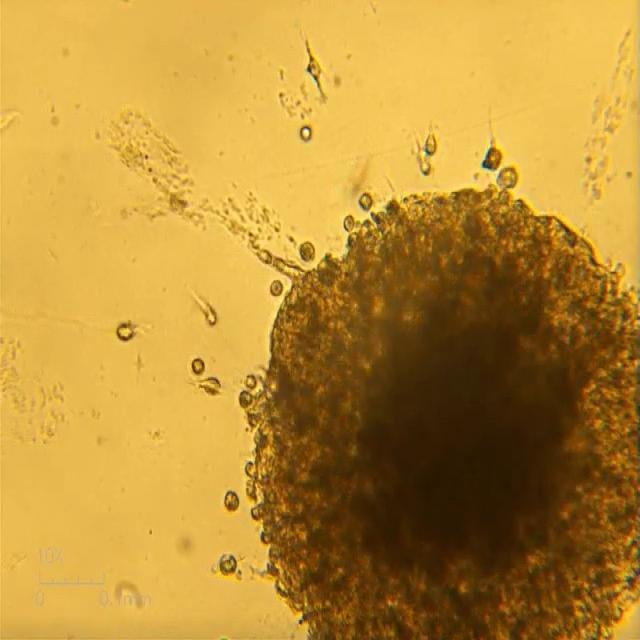cell: (190, 287, 220, 324), (305, 43, 322, 97), (496, 167, 518, 189), (222, 491, 242, 514), (116, 323, 138, 343), (482, 147, 502, 169), (220, 553, 238, 577), (200, 377, 223, 395), (424, 127, 437, 153), (298, 124, 314, 143), (190, 357, 206, 375), (342, 213, 357, 232), (357, 192, 372, 209), (419, 155, 433, 173), (300, 241, 315, 257), (245, 375, 258, 389), (270, 281, 282, 295)
tumor_mass: (238, 179, 640, 639)
